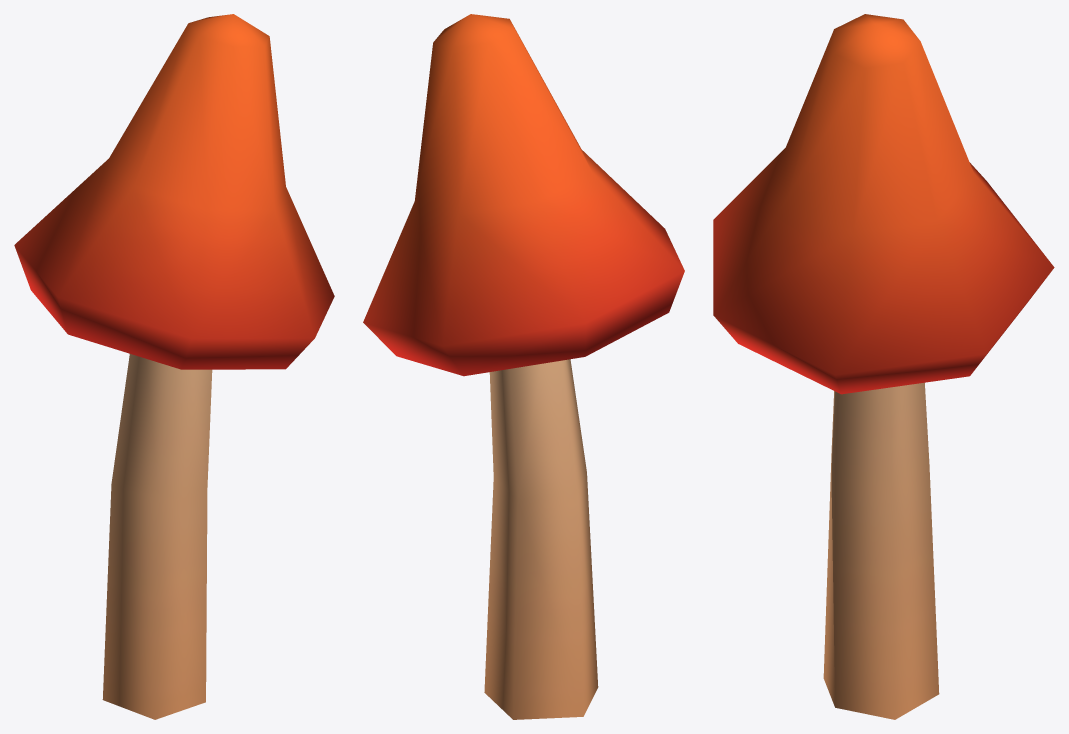
The model's file is mushroom.fbx.
The picture shows the model from 3 angles, left to right: view 1: azimuth 30°, elevation 25°; view 2: azimuth 150°, elevation 25°; view 3: azimuth 270°, elevation 25°; orthographic projection. The views are drawn at different scales.
Visible parts, largest first — view 1: mushroom.001; view 2: mushroom.001; view 3: mushroom.001.
Part boxes in pixels (x1,y1,x2,y2): mushroom.001: (14, 14, 334, 719); mushroom.001: (363, 14, 684, 719); mushroom.001: (713, 14, 1054, 719).
Bounding box in the file's own units: 0.2204 × 0.5045 × 0.2204.
